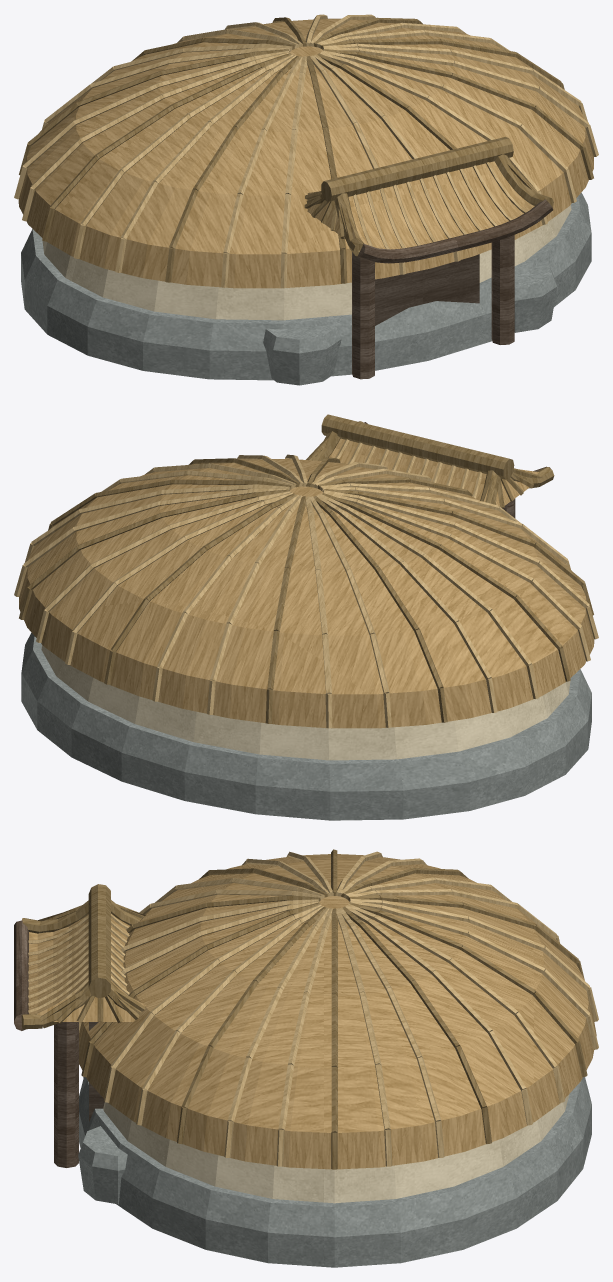
The model's file is BLD_NEST.glb.
The picture shows the model from 3 angles, top to bottom: view 1: azimuth 30°, elevation 25°; view 2: azimuth 150°, elevation 25°; view 3: azimuth 270°, elevation 25°; orthographic projection. The views are drawn at different scales.
Parts seen in each view (by area): view 1: BLD_NEST; view 2: BLD_NEST; view 3: BLD_NEST.
Boxes of the visible parts, x1,y1,x2,y2 form: BLD_NEST: [14, 14, 598, 385]; BLD_NEST: [14, 414, 598, 820]; BLD_NEST: [14, 849, 598, 1267].
Size of the model in its own units: 6.12 by 2.46 by 5.57.
Materials: 7 (7 with a texture image).
